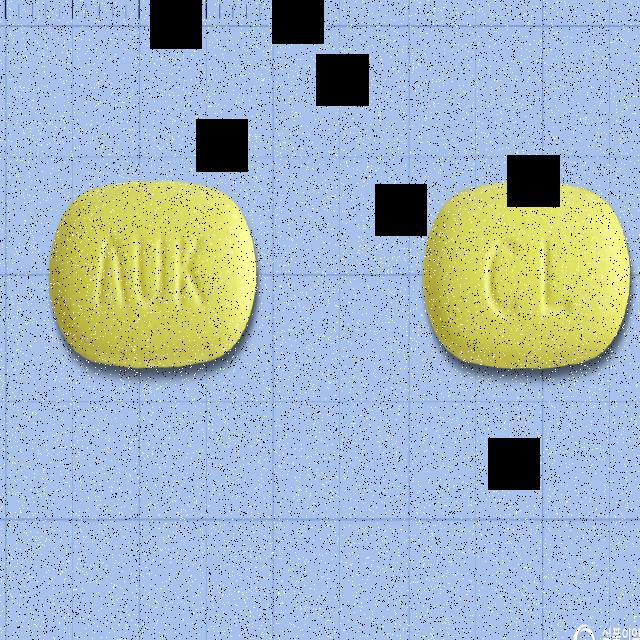Auscle - 500mg: (45, 173, 259, 379)
